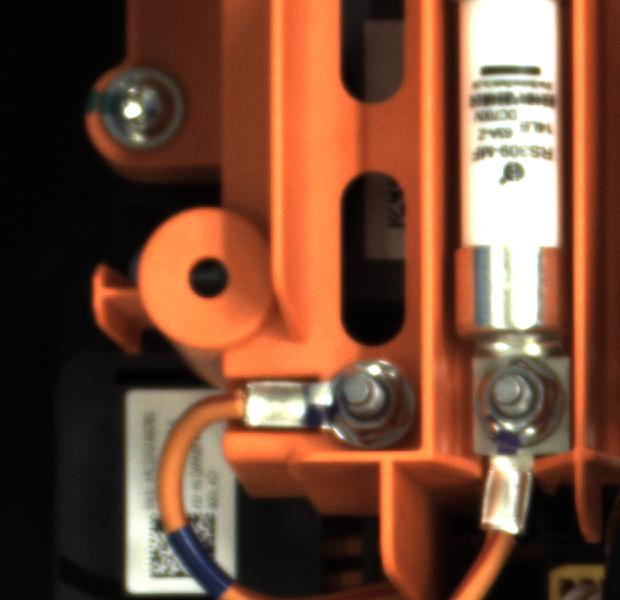screw_m: (84, 57, 200, 154)
screw_s: (309, 353, 415, 448), (466, 356, 573, 445)
